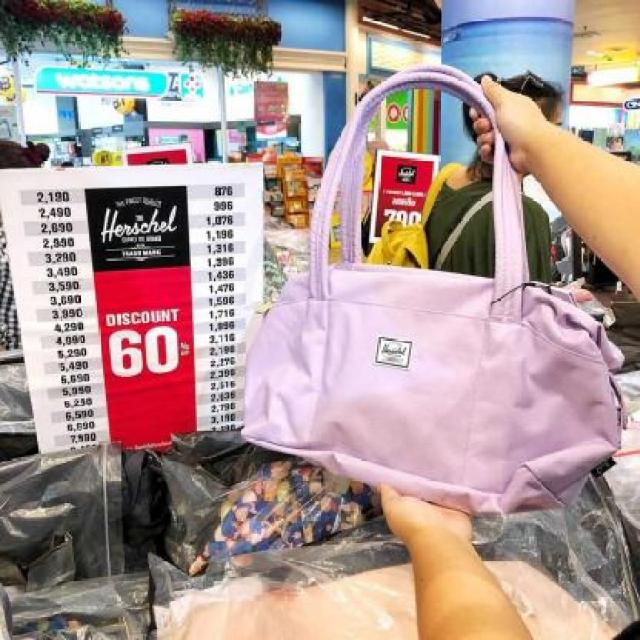Bag: (230, 46, 628, 528)
